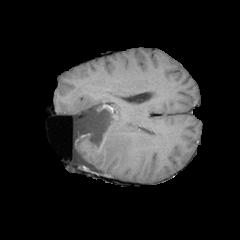glioma: (70, 87, 152, 166)
